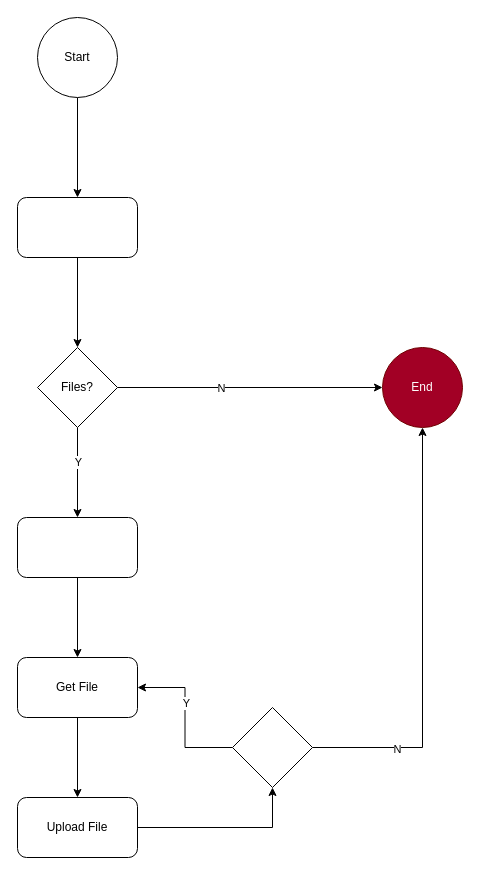
This 480x875 diagram has some shape labels left out. Each missing label, with the box of its shape:
Get Directory Contents: (16, 196, 138, 258)
Initiate Connection to Azure: (16, 516, 138, 578)
More Files?: (232, 706, 312, 788)
